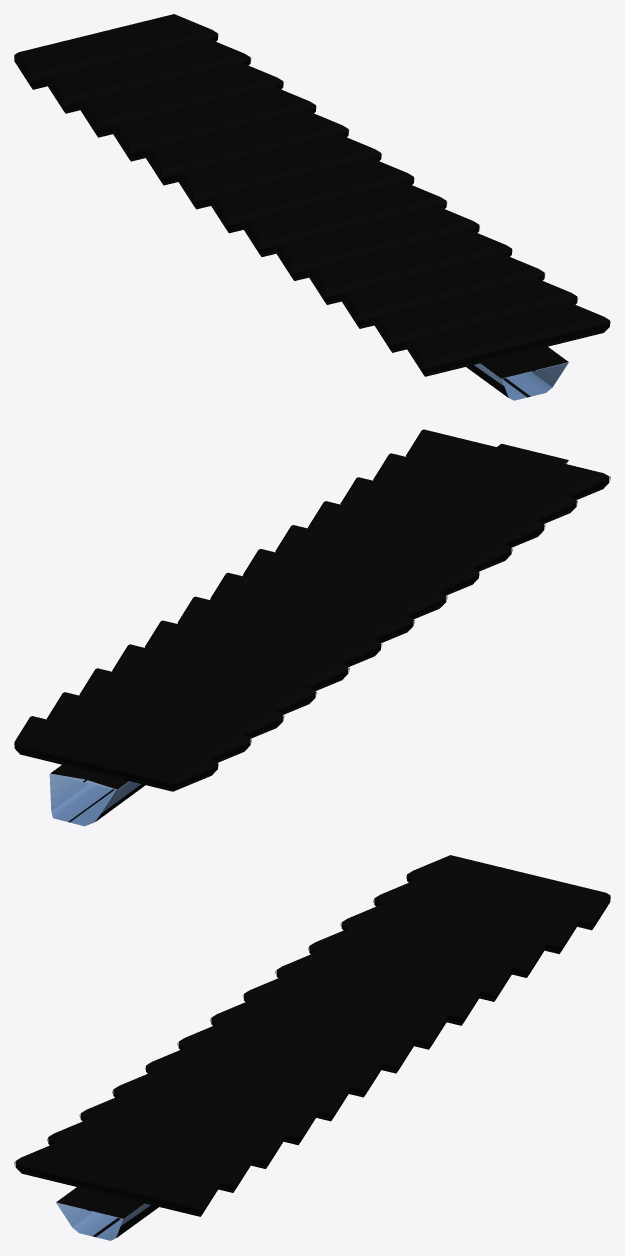
Rendered from SciFi_Stairs_16B.glb.
The picture shows the model from 3 angles, top to bottom: view 1: azimuth 30°, elevation 25°; view 2: azimuth 150°, elevation 25°; view 3: azimuth 330°, elevation 25°; orthographic projection.
Parts seen in each view (by area): view 1: SciFi_Stairs_16B; view 2: SciFi_Stairs_16B; view 3: SciFi_Stairs_16B.
Part boxes in pixels (x1,y1,x2,y2): SciFi_Stairs_16B: [14, 14, 610, 400]; SciFi_Stairs_16B: [14, 429, 610, 826]; SciFi_Stairs_16B: [14, 855, 610, 1240].
Size of the model in its own units: 2.34 by 0.5857 by 9.98.
3 materials, 2 textured.
